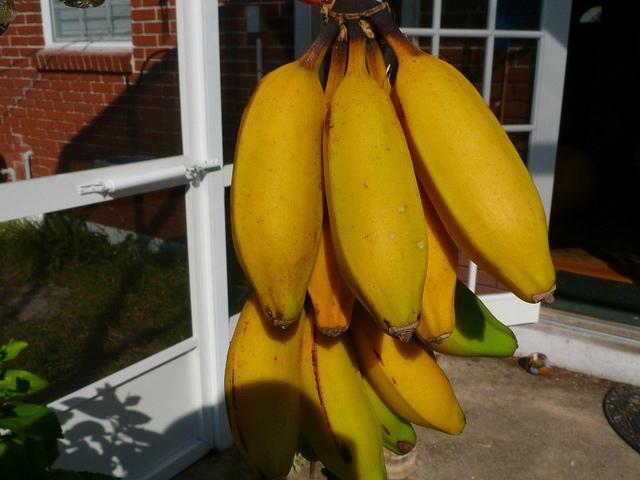banana: (369, 7, 556, 302), (323, 17, 429, 343), (230, 15, 340, 326), (348, 298, 467, 435), (224, 287, 308, 480), (300, 309, 386, 480), (414, 176, 461, 344), (424, 278, 518, 358), (306, 200, 357, 336), (362, 370, 416, 455)
